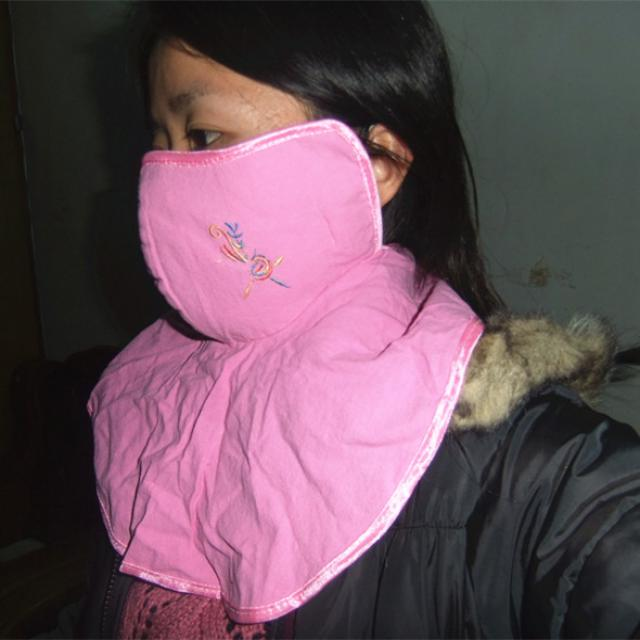mask: (132, 25, 350, 321)
